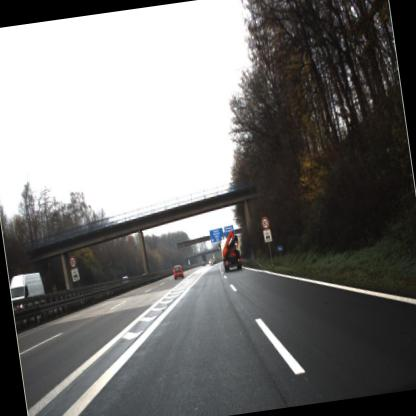prohibitory: (65, 249, 81, 273), (256, 214, 273, 233)
